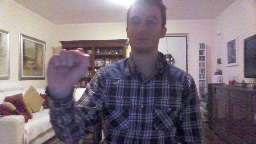Pugno: (45, 46, 91, 97)
